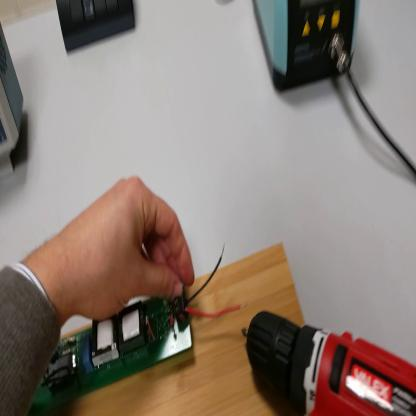electric screwdriver: (241, 313, 416, 416)
hand: (65, 179, 196, 323)
high voltage board: (32, 237, 248, 415)
oscilloscope: (1, 28, 27, 178)
welder station: (254, 2, 363, 95)
working area: (28, 241, 328, 416)
